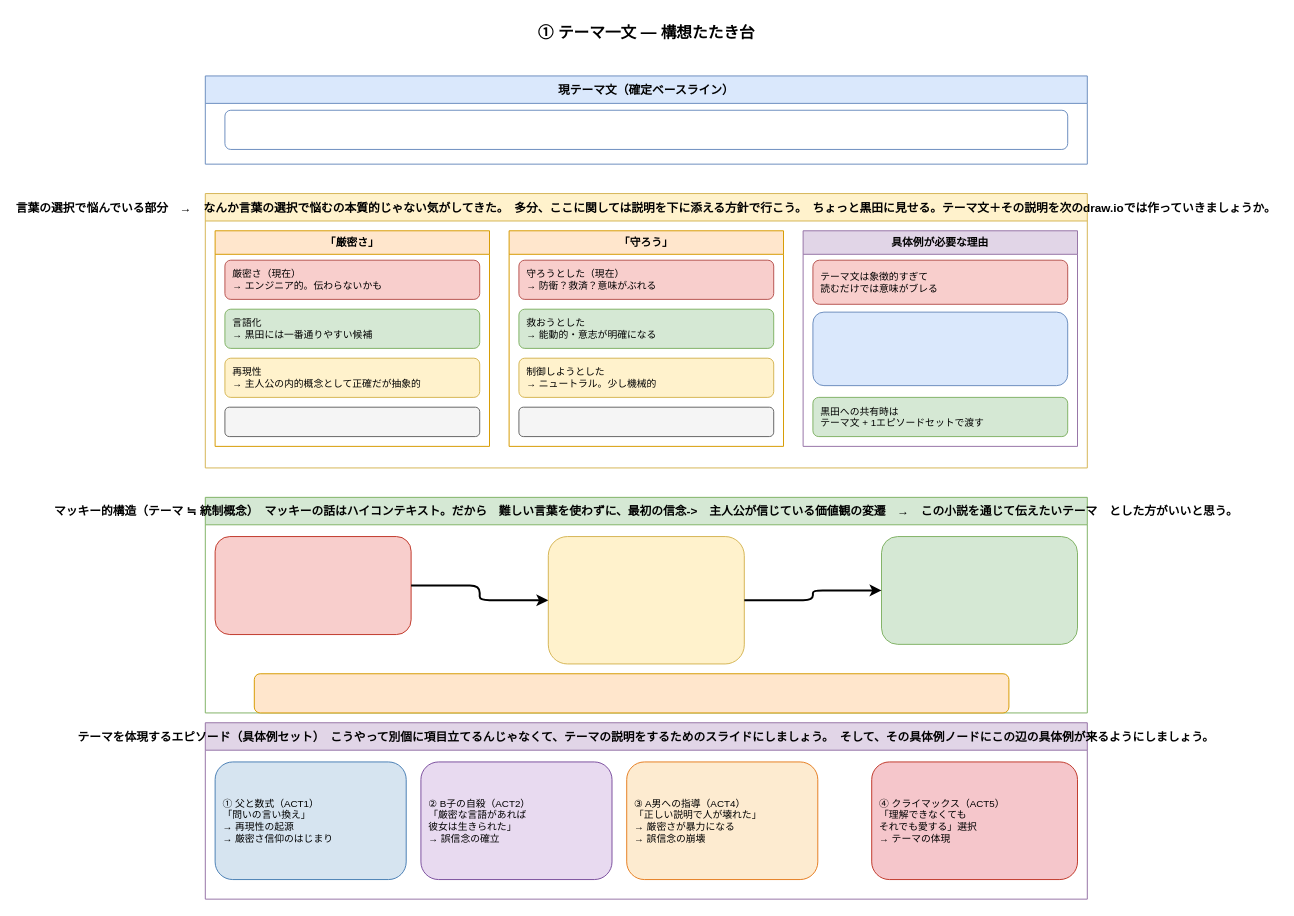
Image size: 1294x916. Some labels were removed from this diagram. The shapes that lost their labels are listed below. From the top down, each one's centre as x and y in pixels, then its label:
the point at 646,129: 「厳密さ」こそが人を救うと考えた主人公が、曖昧さとディスコミュニケーションだらけの人間社会を愛せるようになる話
the point at 940,348: 具体例案： 「彼は分数の割り算の意味が分からないと先生に言えず、父だけが『俺もそうだ』と言ってくれた」 → 「厳密さで世界を理解しようとした」の起源
the point at 352,421: 定義・論理 → 硬すぎる
the point at 646,421: 定義しようとした → エンジニア感強い。コアを突いている
the point at 312,585: 対立命題（opposing） 「厳密さだけが人を救い 正しい世界を作る」 = 主人公の誤信念
the point at 645,600: 価値変化弧（確定） 理解すれば救える ↓ 理解しても救えない ↓ 理解できなくても寄り添える
the point at 979,590: 統制命題（controlling）候補 「曖昧さを受け入れることで 人は他者の世界を旅し 真に抱擁できるようになる」 → まだ❓確定していない
the point at 631,693: ⚠️ 悩み：「テーマ」と「統制概念」は同じ？ズレる？マッキー的には統制概念が上位概念。テーマ文は読者向け言い換え、という整理でいいか黒田に確認したい
